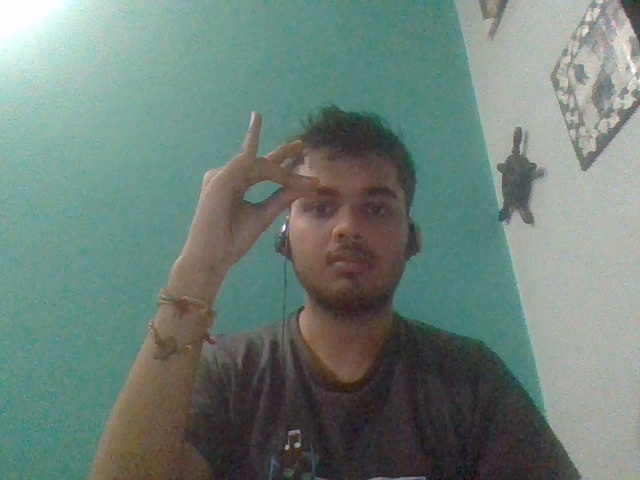no: (181, 110, 317, 255)
